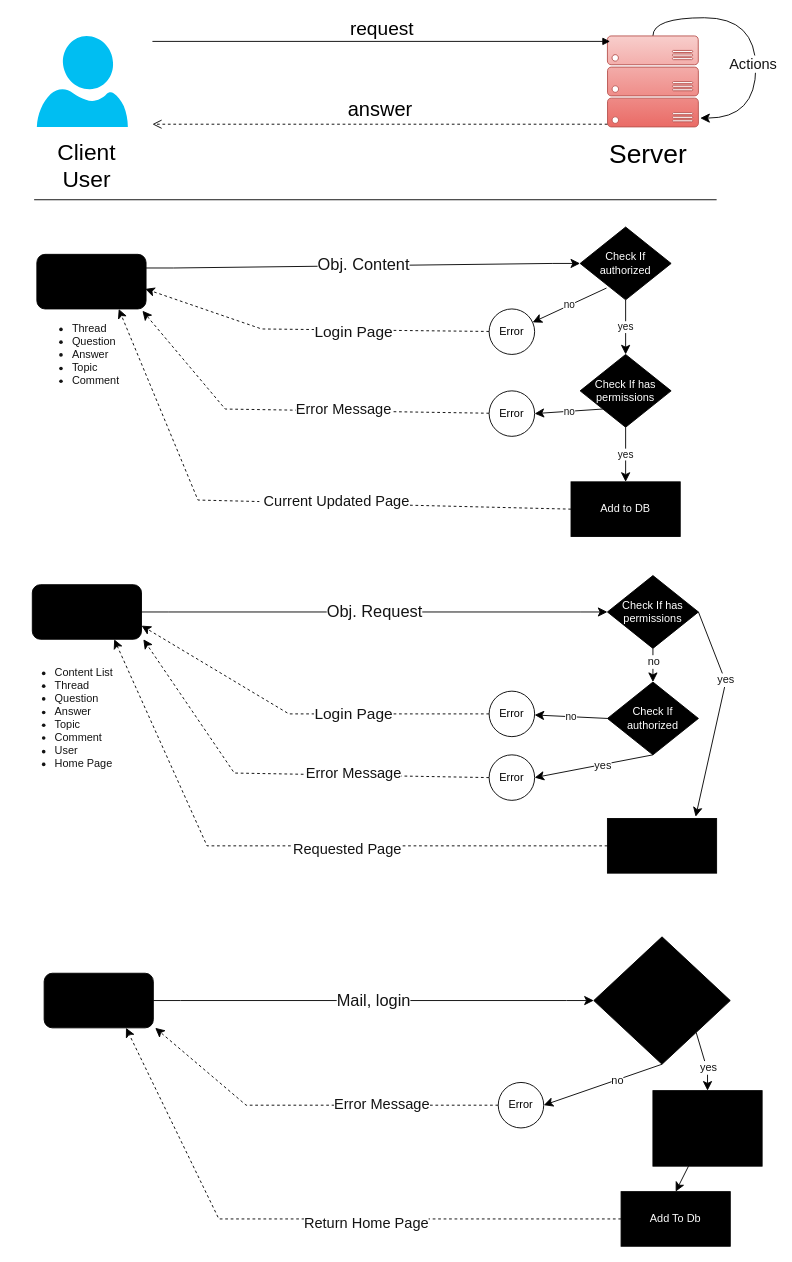
Image size: 792x1262. Some labels were removed from this diagram. The shapes that lost their labels are listed below. From the top down, each one's centre as x and y in pixels, then its label:
the point at 91,281: Create Object
the point at 86,611: Get Object
the point at 662,845: Get from Db
the point at 98,1000: Reister
the point at 661,1000: Check If there is no such user
the point at 707,1128: Send verification mail
